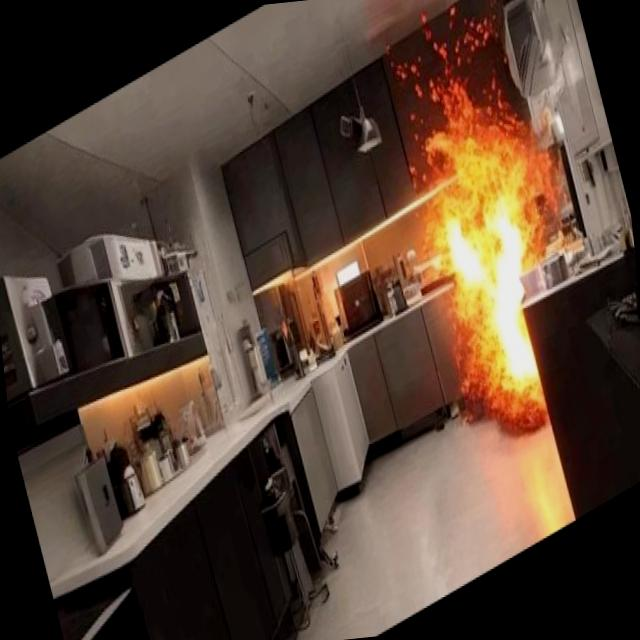fire: (369, 0, 622, 457)
